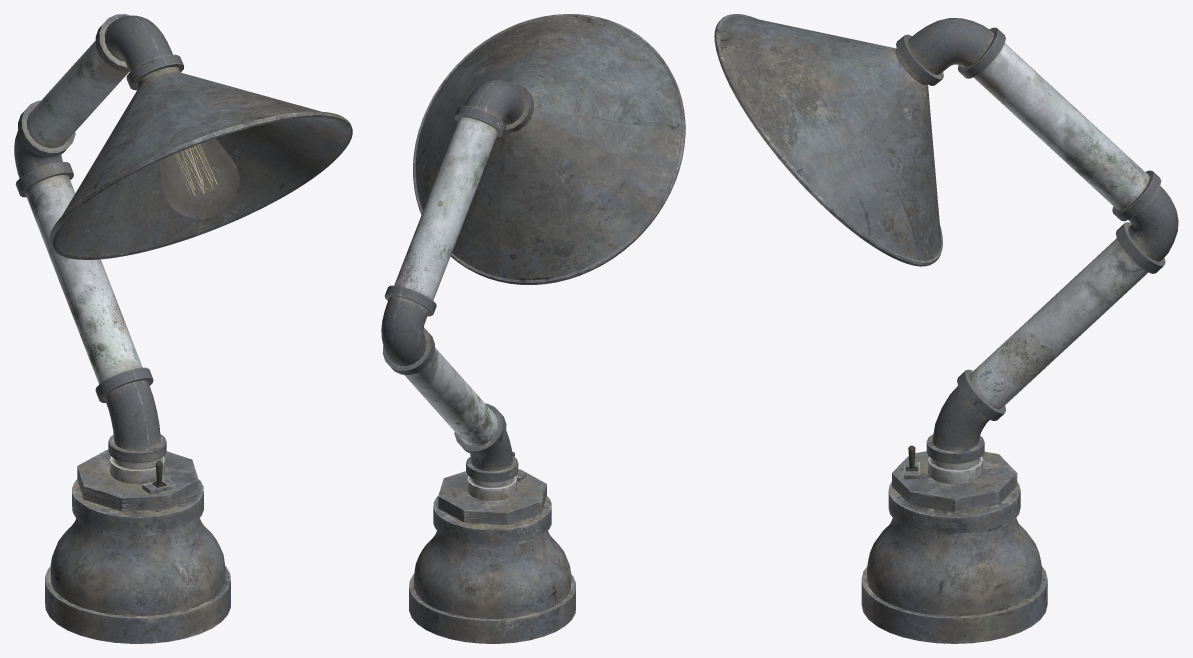
File: industrial_pipe_lamp.glb
3 renders of one model, left to right at view 1: azimuth 30°, elevation 25°; view 2: azimuth 150°, elevation 25°; view 3: azimuth 270°, elevation 25°, orthographic. The views are drawn at different scales.
Visible parts, largest first — view 1: industrial_pipe_lamp, industrial_pipe_lamp_bulb; view 2: industrial_pipe_lamp; view 3: industrial_pipe_lamp.
Part boxes in pixels (bbox=[...]): industrial_pipe_lamp: bbox=[14, 14, 352, 643]; industrial_pipe_lamp_bulb: bbox=[160, 138, 239, 218]; industrial_pipe_lamp: bbox=[381, 14, 685, 643]; industrial_pipe_lamp: bbox=[714, 14, 1178, 643].
Bounding box in the file's own units: 0.183 × 0.3641 × 0.2621.
Materials: 2 (2 with a texture image).
